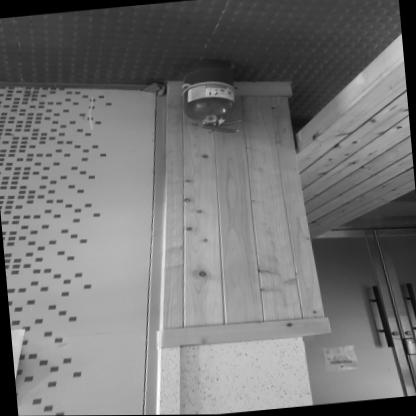FE: (178, 55, 242, 138)
